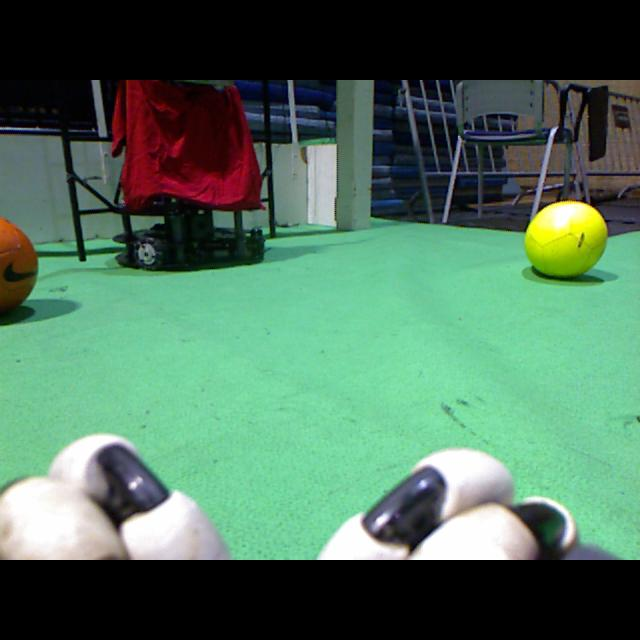ball: (524, 201, 608, 277), (0, 216, 38, 316)
goal: (352, 80, 373, 232)
